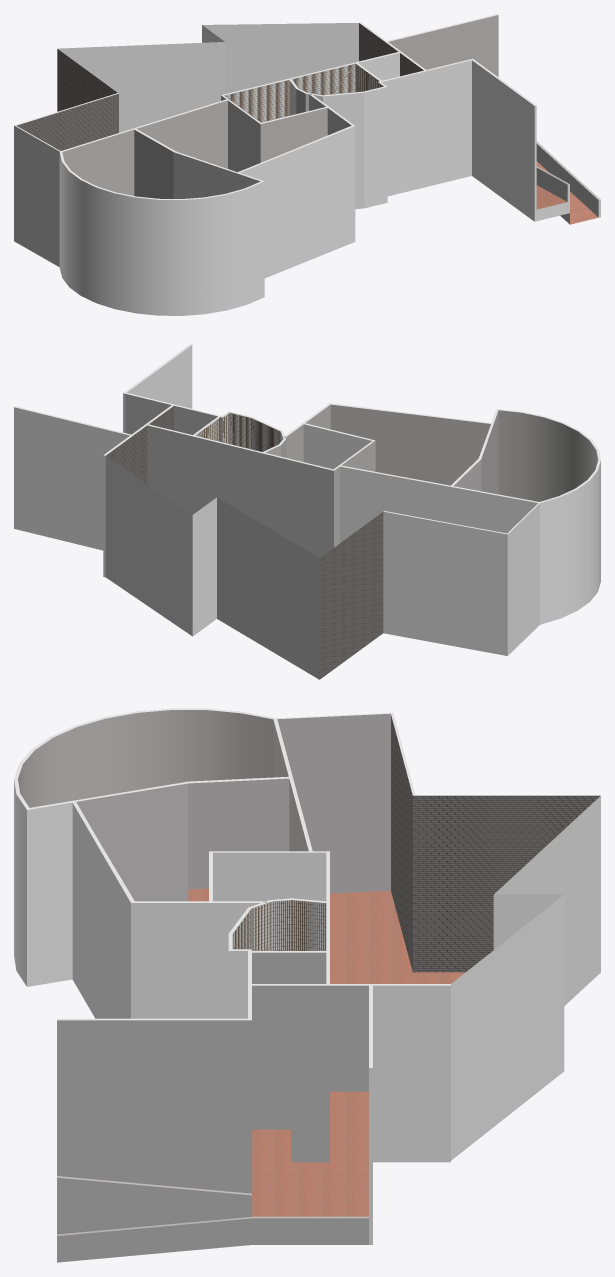
File: museo.fbx
The picture shows the model from 3 angles, top to bottom: view 1: azimuth 30°, elevation 25°; view 2: azimuth 150°, elevation 25°; view 3: azimuth 270°, elevation 25°; orthographic projection. The views are drawn at different scales.
Parts seen in each view (by area): view 1: Model; view 2: Model; view 3: Model.
Boxes of the visible parts, x1,y1,x2,y2 form: Model: [14, 14, 600, 315]; Model: [14, 344, 600, 679]; Model: [14, 708, 600, 1262].
Size of the model in its own units: 21.81 by 5.5 by 15.04.
